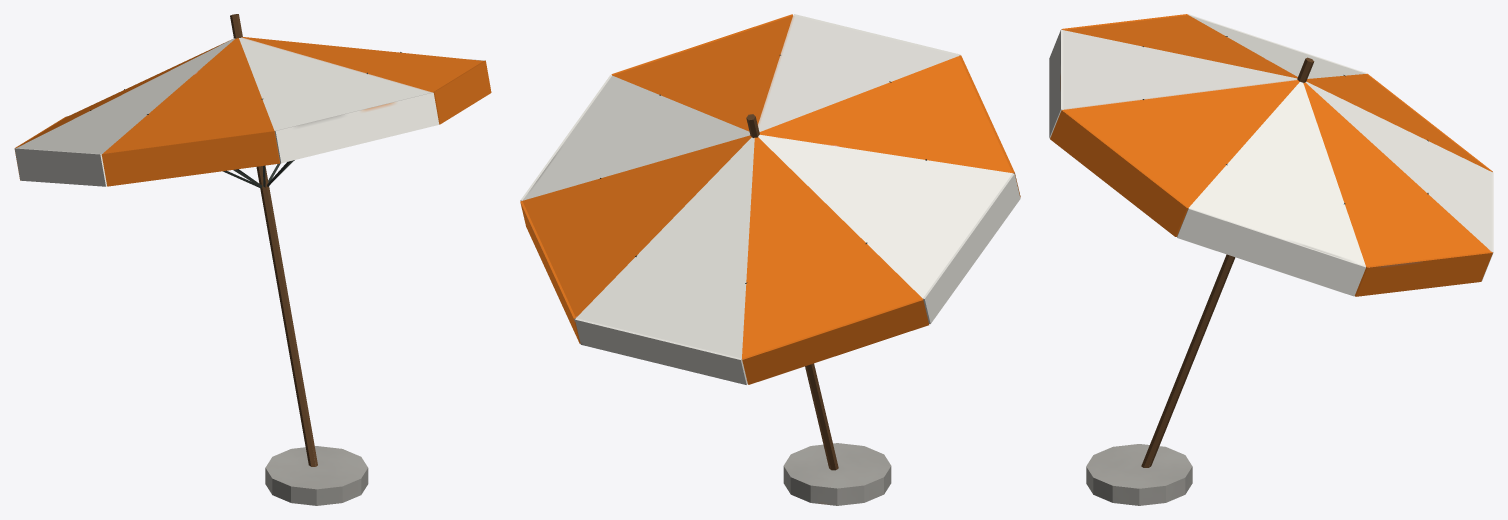
The model's file is slunecnik_90464377.glb.
The picture shows the model from 3 angles, left to right: view 1: azimuth 30°, elevation 25°; view 2: azimuth 150°, elevation 25°; view 3: azimuth 270°, elevation 25°; orthographic projection. The views are drawn at different scales.
Visible parts, largest first — view 1: dum; view 2: dum; view 3: dum.
Boxes of the visible parts, x1,y1,x2,y2 form: dum: (14,14,491,505); dum: (520,14,1020,505); dum: (1049,14,1493,505).
Size of the model in its own units: 2.42 by 2.47 by 2.33.
Materials: 1 (1 with a texture image).
